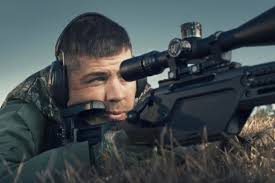Gun: (125, 25, 275, 132)
